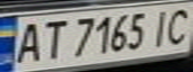1: (90, 12, 115, 55)
5: (124, 8, 151, 51)
6: (109, 11, 133, 53)
7: (66, 15, 96, 58)
A: (9, 19, 45, 64)
C: (160, 4, 193, 46)
I: (148, 7, 175, 48)
T: (36, 17, 69, 61)
